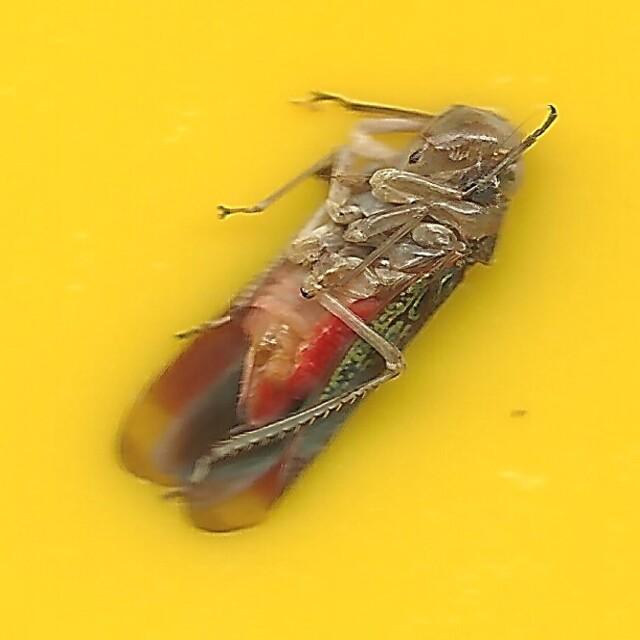Hemiptera: (105, 96, 535, 544)
